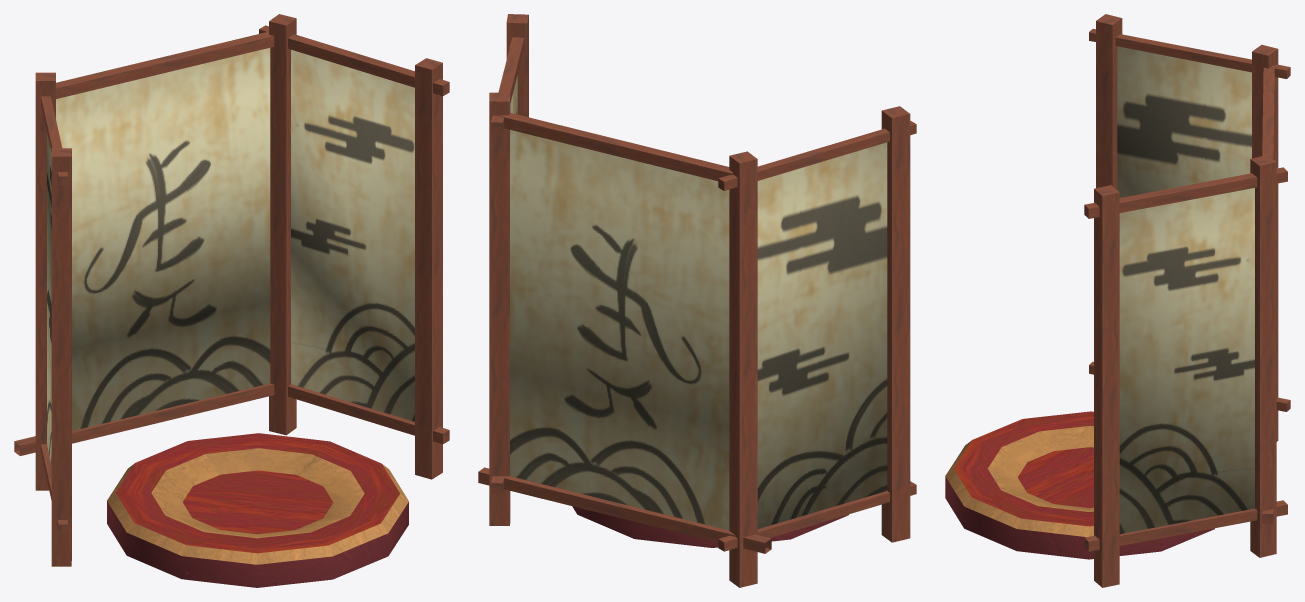
File: Portal_Art.fbx
The picture shows the model from 3 angles, left to right: view 1: azimuth 30°, elevation 25°; view 2: azimuth 150°, elevation 25°; view 3: azimuth 270°, elevation 25°; orthographic projection. The views are drawn at different scales.
Visible parts, largest first — view 1: Portal_Art; view 2: Portal_Art; view 3: Portal_Art.
Boxes of the visible parts, box(x1,y1,x2,y2) form: Portal_Art: box(14, 14, 449, 587); Portal_Art: box(478, 14, 916, 587); Portal_Art: box(945, 14, 1290, 587).
Size of the model in its own units: 3.3 by 3.31 by 2.64.
